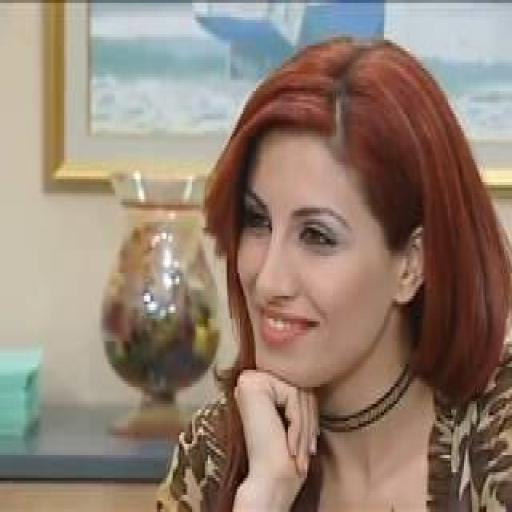Dalanda: (237, 128, 424, 364)
